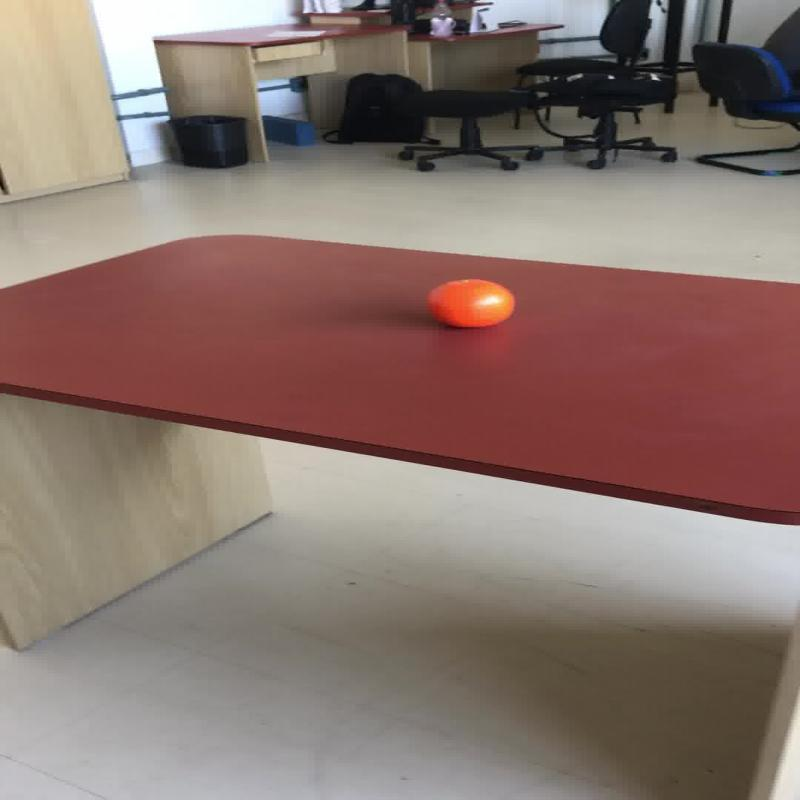orange: (425, 278, 514, 328)
